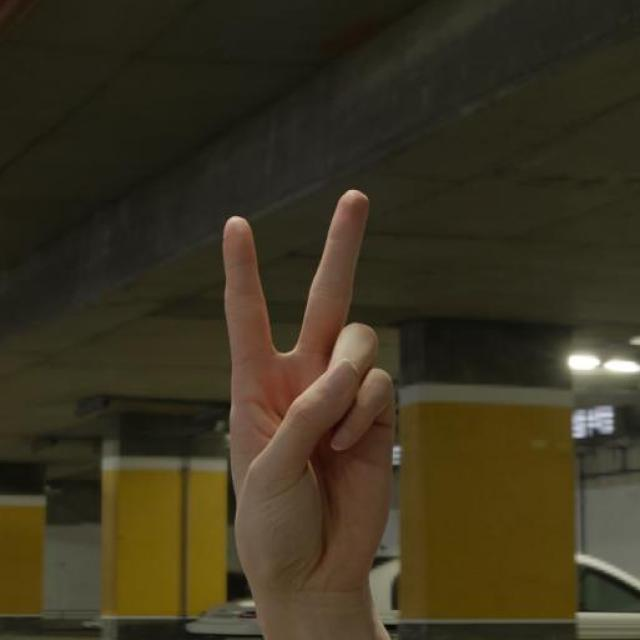V: (203, 186, 407, 616)
